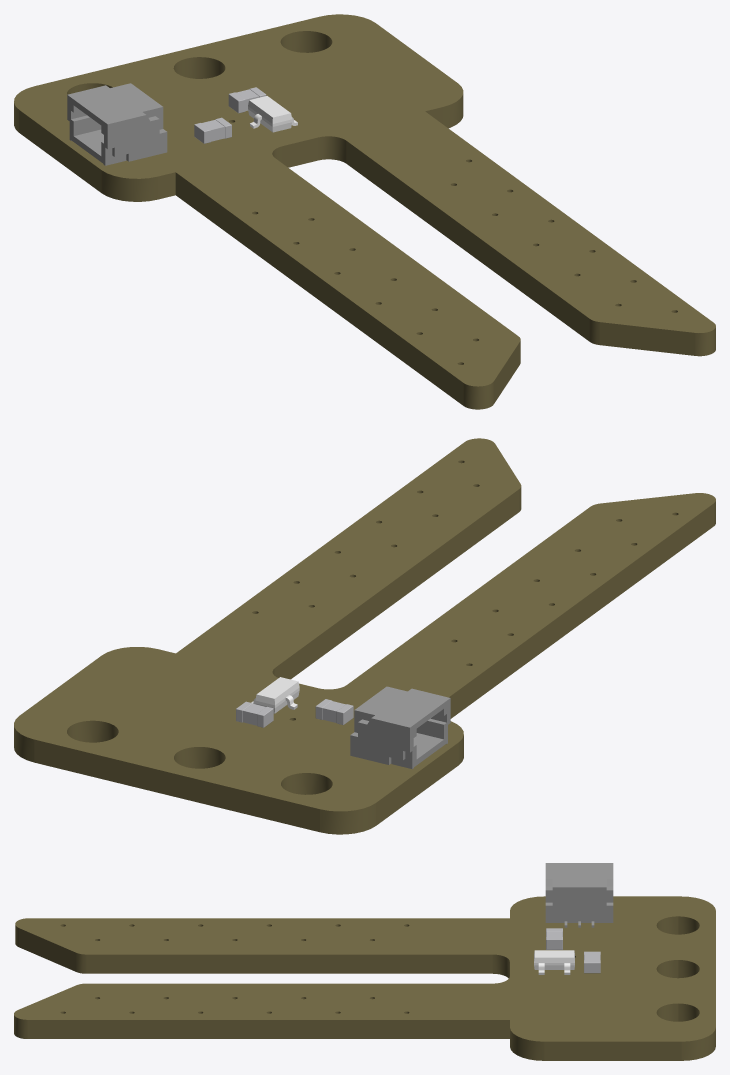
Rendered from ada-6362.glb.
3 renders of one model, top to bottom at view 1: azimuth 30°, elevation 25°; view 2: azimuth 150°, elevation 25°; view 3: azimuth 270°, elevation 25°, orthographic. The views are drawn at different scales.
Visible parts, largest first — view 1: 0.16666666666666666_0.16666666666666666_0.08333333333333333_, 0.3333333333333333_0.3333333333333333_0.3333333333333333_0, 0.5833333333333334_0.5833333333333334_0.5833333333333334_0.8, 0.9166666666666666_0.9166666666666666_0.9166666666666666_0.8; view 2: 0.16666666666666666_0.16666666666666666_0.08333333333333333_, 0.3333333333333333_0.3333333333333333_0.3333333333333333_0, 0.5833333333333334_0.5833333333333334_0.5833333333333334_0.8, 0.9166666666666666_0.9166666666666666_0.9166666666666666_0.8; view 3: 0.16666666666666666_0.16666666666666666_0.08333333333333333_, 0.3333333333333333_0.3333333333333333_0.3333333333333333_0, 0.9166666666666666_0.9166666666666666_0.9166666666666666_0.8, 0.5833333333333334_0.5833333333333334_0.5833333333333334_0.8.
Part boxes in pixels (bbox=[...]): 0.16666666666666666_0.16666666666666666_0.08333333333333333_: bbox=[14, 14, 715, 409]; 0.3333333333333333_0.3333333333333333_0.3333333333333333_0: bbox=[67, 83, 167, 165]; 0.5833333333333334_0.5833333333333334_0.5833333333333334_0.8: bbox=[194, 87, 266, 143]; 0.9166666666666666_0.9166666666666666_0.9166666666666666_0.8: bbox=[248, 96, 297, 132]; 0.16666666666666666_0.16666666666666666_0.08333333333333333_: bbox=[14, 438, 715, 834]; 0.3333333333333333_0.3333333333333333_0.3333333333333333_0: bbox=[350, 686, 450, 769]; 0.5833333333333334_0.5833333333333334_0.5833333333333334_0.8: bbox=[236, 699, 353, 727]; 0.9166666666666666_0.9166666666666666_0.9166666666666666_0.8: bbox=[251, 677, 299, 713]; 0.16666666666666666_0.16666666666666666_0.08333333333333333_: bbox=[14, 896, 715, 1060]; 0.3333333333333333_0.3333333333333333_0.3333333333333333_0: bbox=[545, 863, 613, 927]; 0.9166666666666666_0.9166666666666666_0.9166666666666666_0.8: bbox=[534, 950, 574, 974]; 0.5833333333333334_0.5833333333333334_0.5833333333333334_0.8: bbox=[546, 928, 600, 973].
Bounding box in the file's own units: 2.54 × 0.4531 × 5.19.
